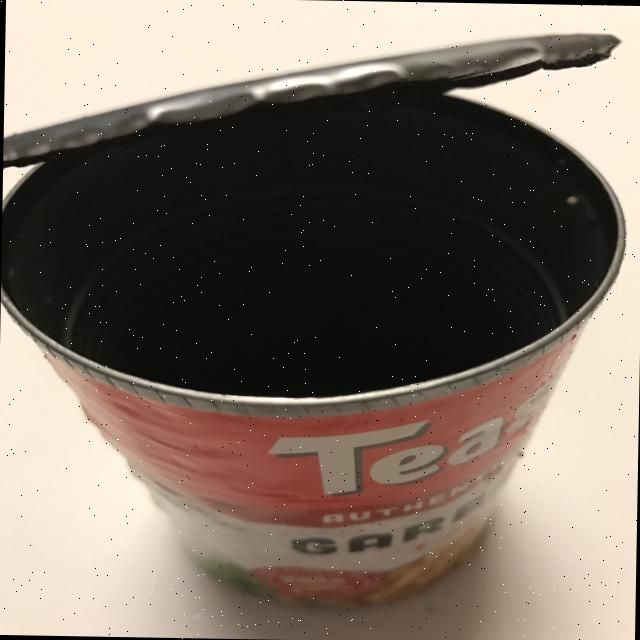metal: (0, 22, 631, 614)
